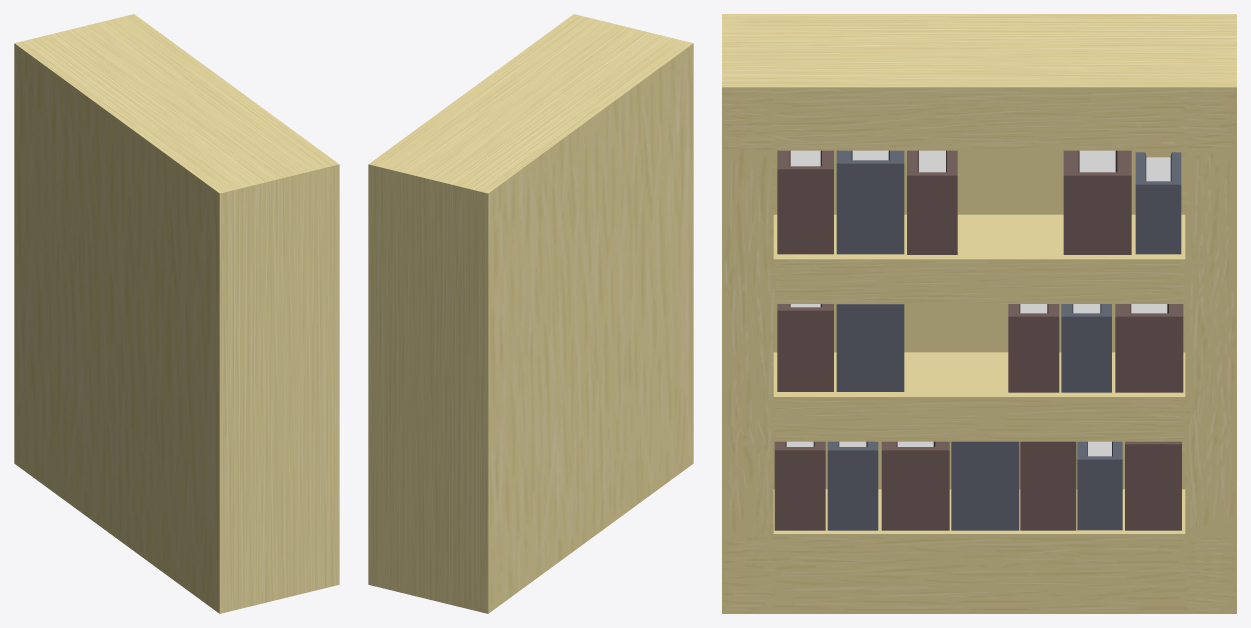
The model's file is Bookshelf_LivingRoom_01.fbx.
3 renders of one model, left to right at view 1: azimuth 30°, elevation 25°; view 2: azimuth 150°, elevation 25°; view 3: azimuth 270°, elevation 25°, orthographic. The views are drawn at different scales.
Visible parts, largest first — view 1: Bookshelf_01; view 2: Bookshelf_01; view 3: Bookshelf_01, Book_16, Book_21, Book_04, Book_03, Book_12, Book_11, Book_15, Book_18, Book_07, Book_05, Book_08 (+6 smaller).
Boxes of the visible parts, bbox=[...] form: Bookshelf_01: bbox=[14, 14, 339, 613]; Bookshelf_01: bbox=[368, 14, 693, 613]; Bookshelf_01: bbox=[722, 14, 1236, 613]; Book_16: bbox=[1063, 150, 1131, 254]; Book_21: bbox=[836, 150, 904, 254]; Book_04: bbox=[951, 441, 1019, 530]; Book_03: bbox=[881, 441, 949, 530]; Book_12: bbox=[1115, 304, 1183, 392]; Book_11: bbox=[836, 304, 904, 391]; Book_15: bbox=[777, 150, 833, 254]; Book_18: bbox=[907, 150, 957, 254]; Book_07: bbox=[1125, 441, 1181, 530]; Book_05: bbox=[1020, 441, 1076, 530]; Book_08: bbox=[777, 304, 833, 391].
Size of the model in its own units: 1.68 by 5.65 by 5.
